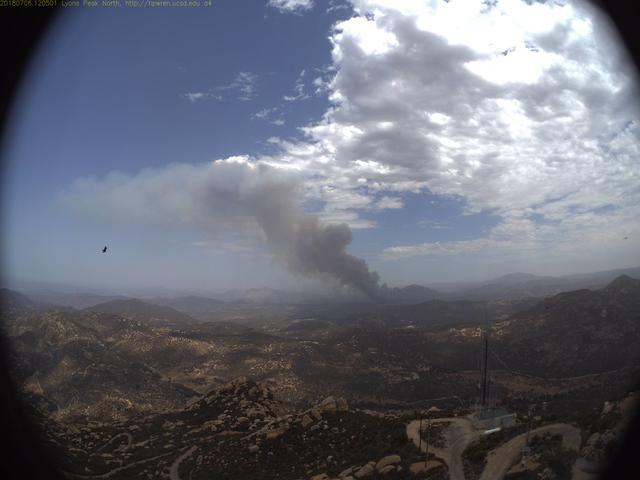smoke: (60, 156, 414, 319)
